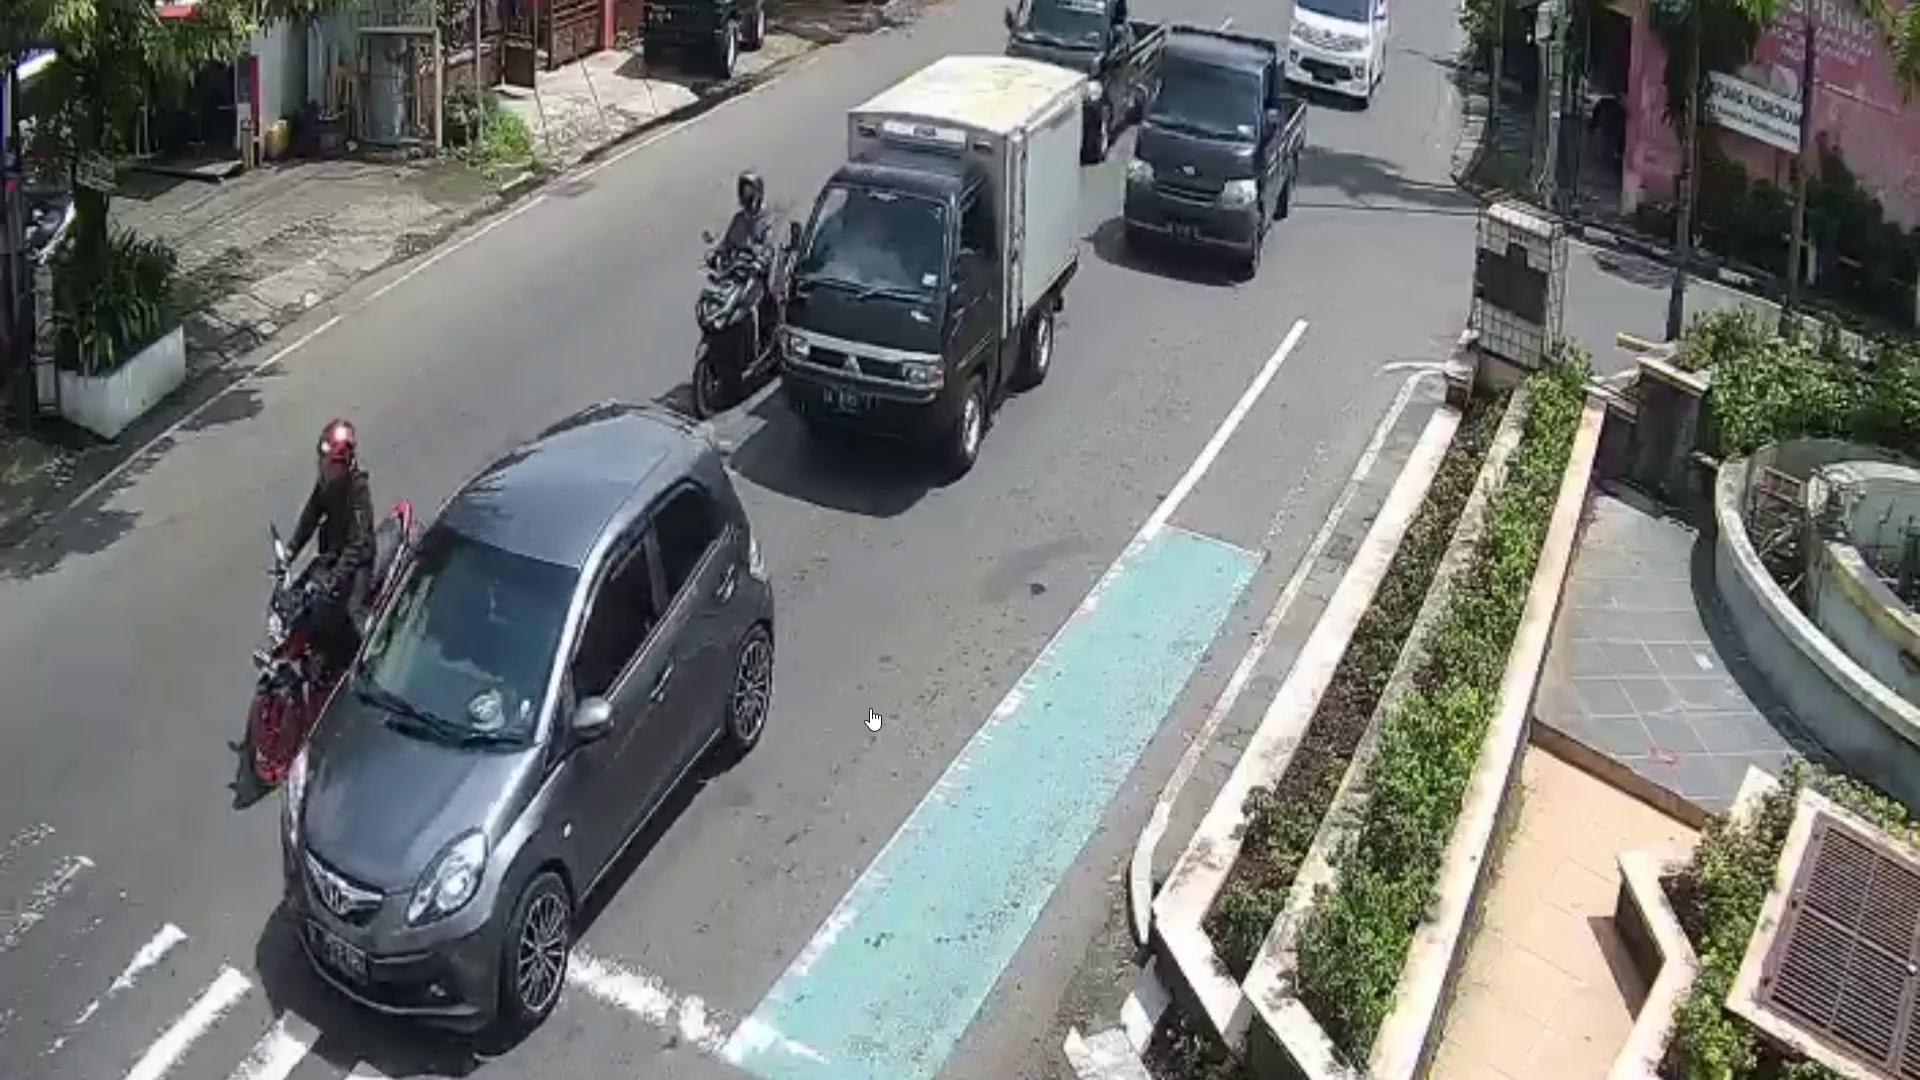car: (286, 398, 777, 1029), (1124, 21, 1304, 270), (1000, 0, 1162, 156), (1282, 0, 1389, 109)
motorbike: (688, 247, 777, 417)
truck: (779, 51, 1084, 469)
